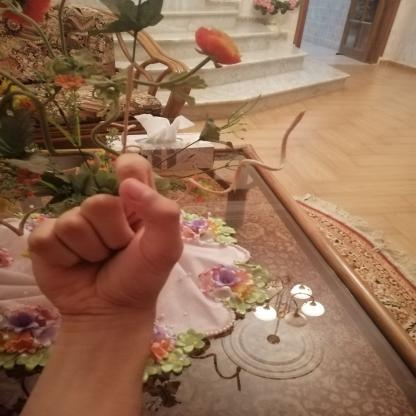FAA: (12, 139, 197, 330)
